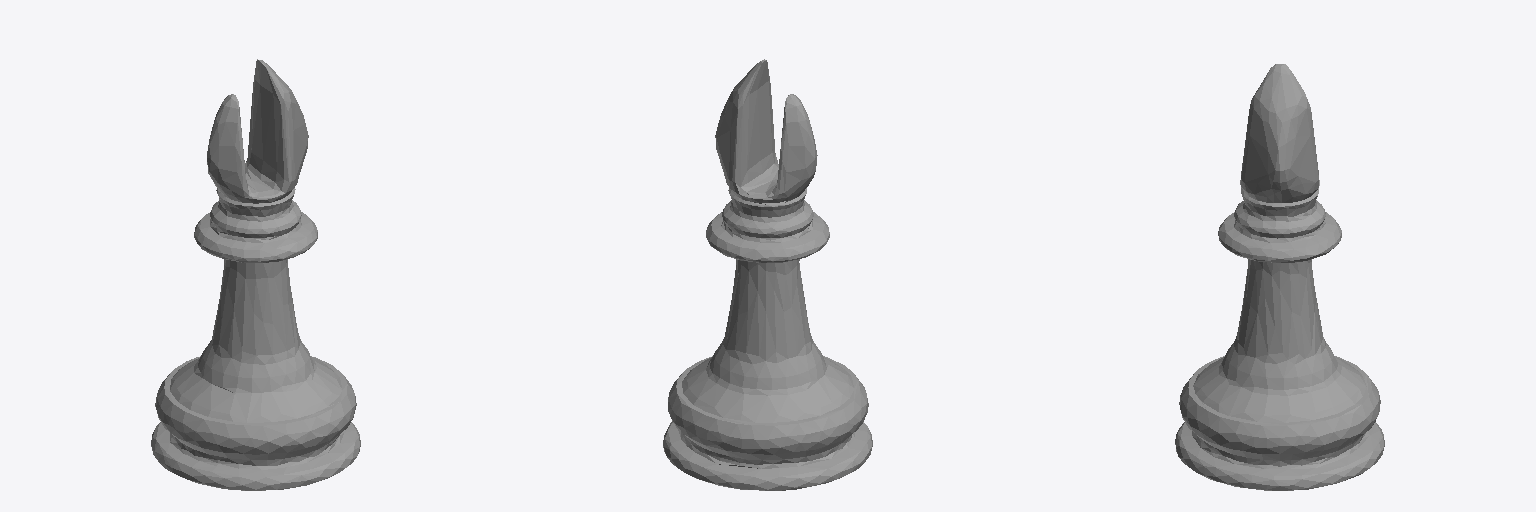
The model's file is BishopNewSimplificat.obj.
3 views of the same model, side by side, from view 1: azimuth 30°, elevation 25°; view 2: azimuth 150°, elevation 25°; view 3: azimuth 270°, elevation 25° (orthographic).
Visible parts, largest first — view 1: mesh01.007; view 2: mesh01.007; view 3: mesh01.007.
Part boxes in pixels (bbox=[...]): mesh01.007: bbox=[151, 59, 360, 490]; mesh01.007: bbox=[663, 59, 872, 490]; mesh01.007: bbox=[1175, 64, 1384, 490].
Bounding box in the file's own units: 0.8596 × 1.75 × 0.8593.